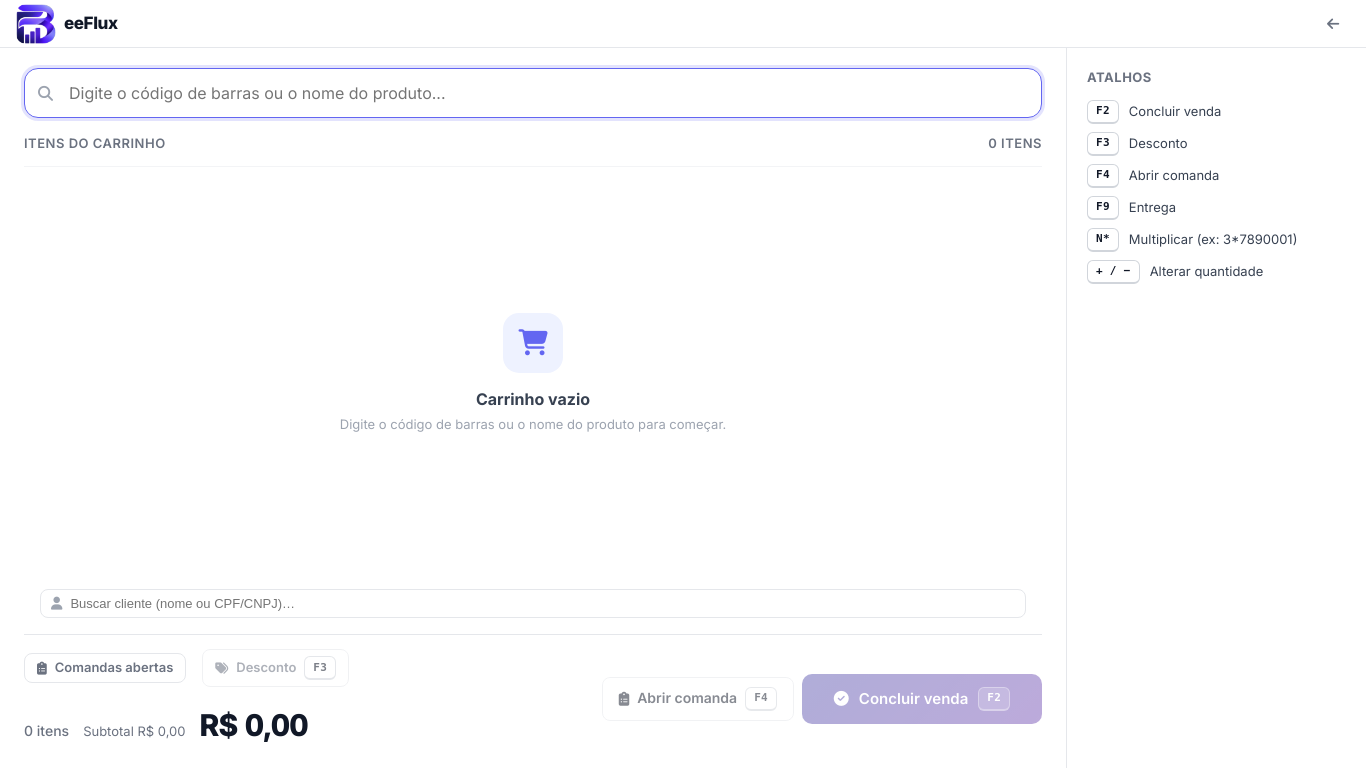
PdvView › F2 abre com Dinheiro pré-preenchido e selecionado para digitar por cima
This screenshot has width=1366, height=768.
Type "arildo" into the field with placeholder "Digite o código de barras ou o nome do produto..." at (533, 93), box [24,68,1042,118]
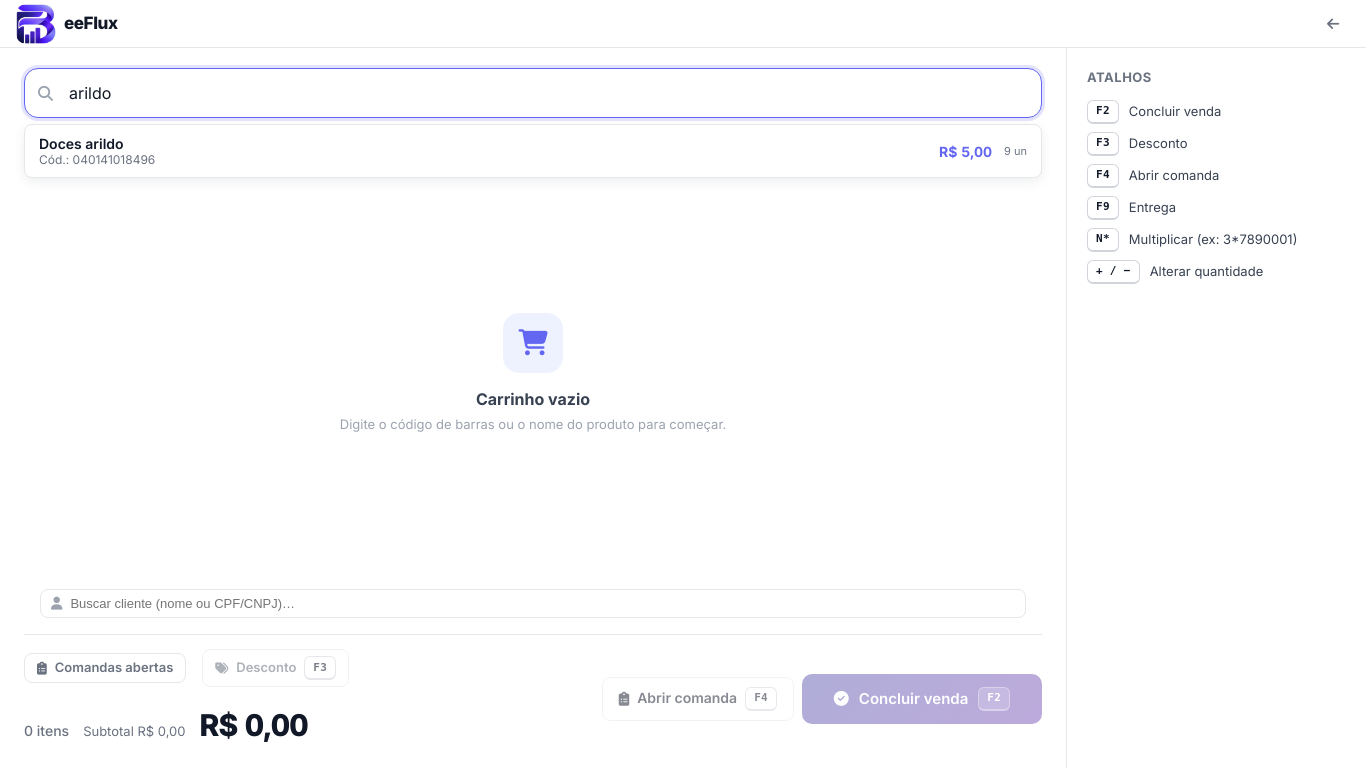
Press Enter in the 1st field, box [24,68,1042,118]
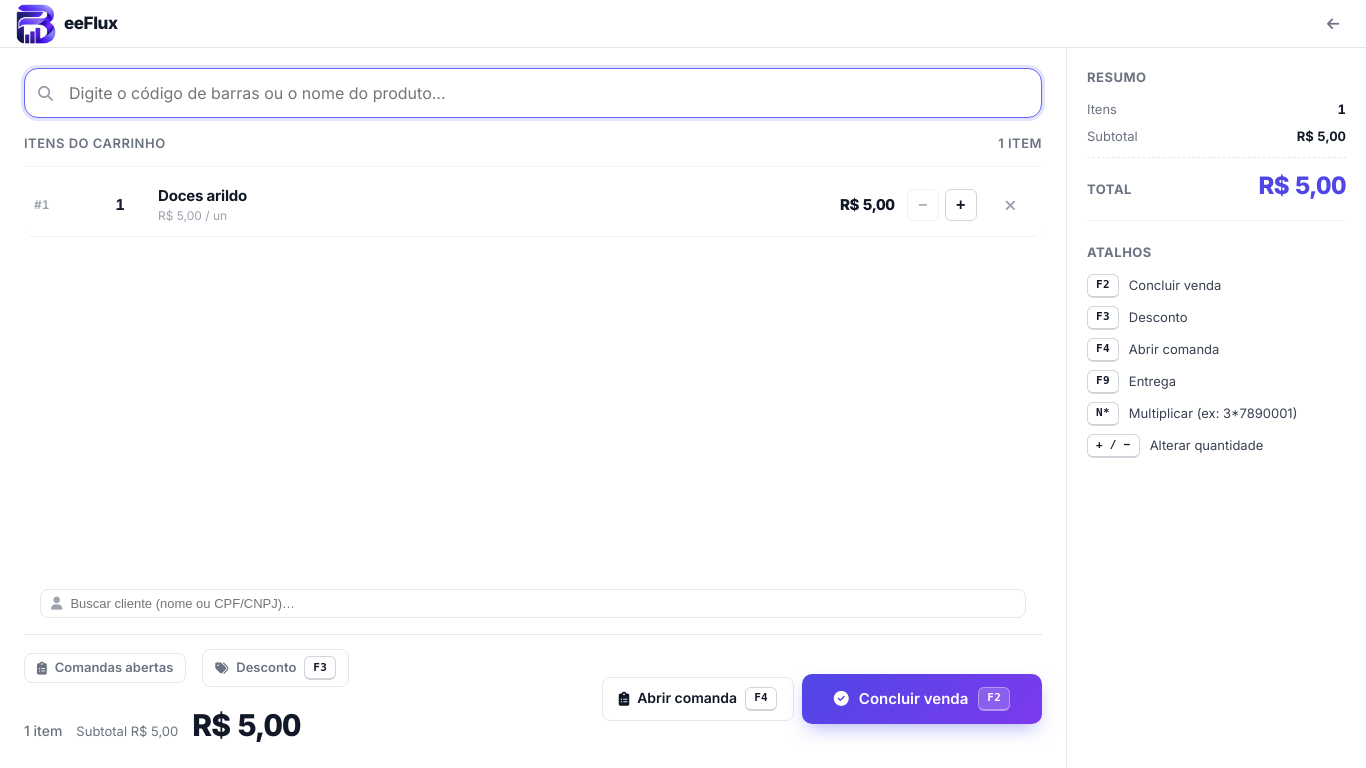
Click the button "Concluir venda F2" at (922, 698), box [802,674,1042,724]
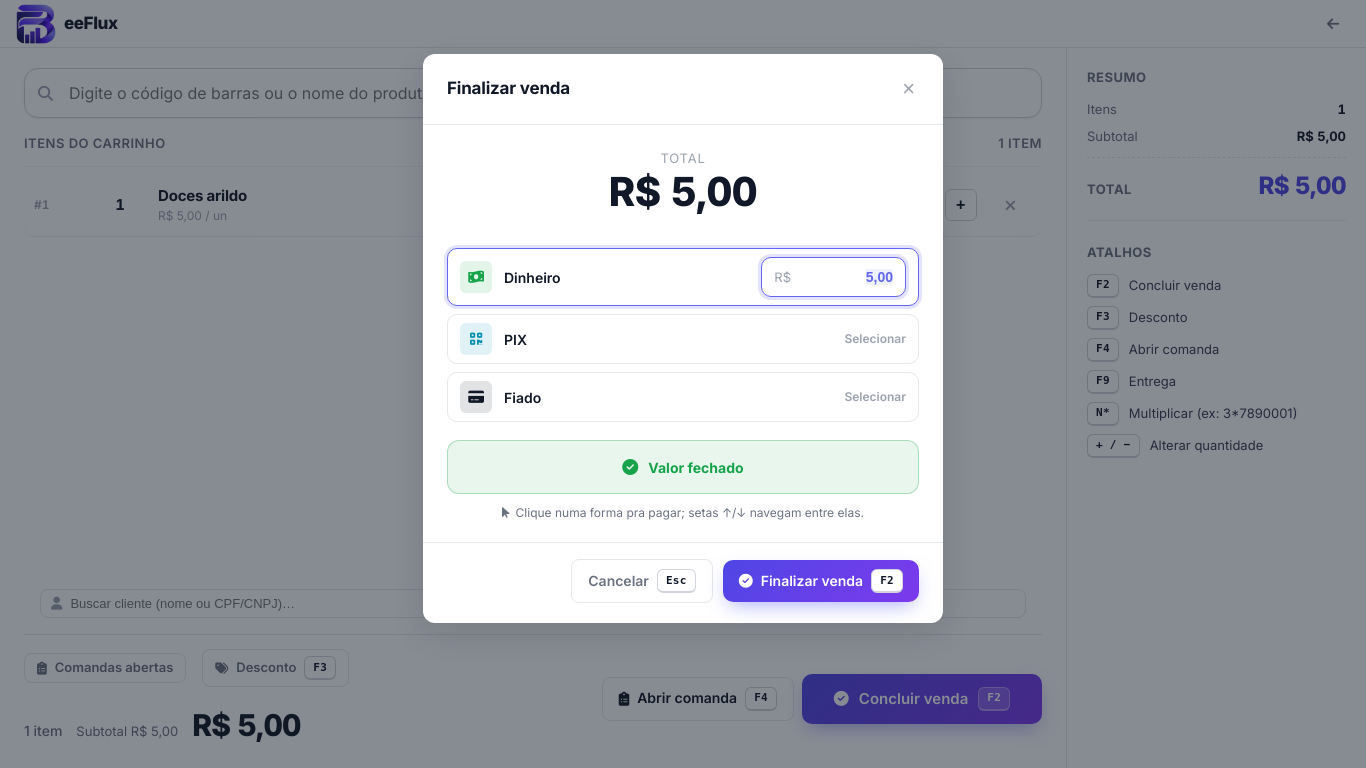
Result: the field named "Valor em Dinheiro" holds "5,00"
Replace the text in the field named "Valor em Dinheiro" with "1000" at (845, 277), box [797,269,893,285]
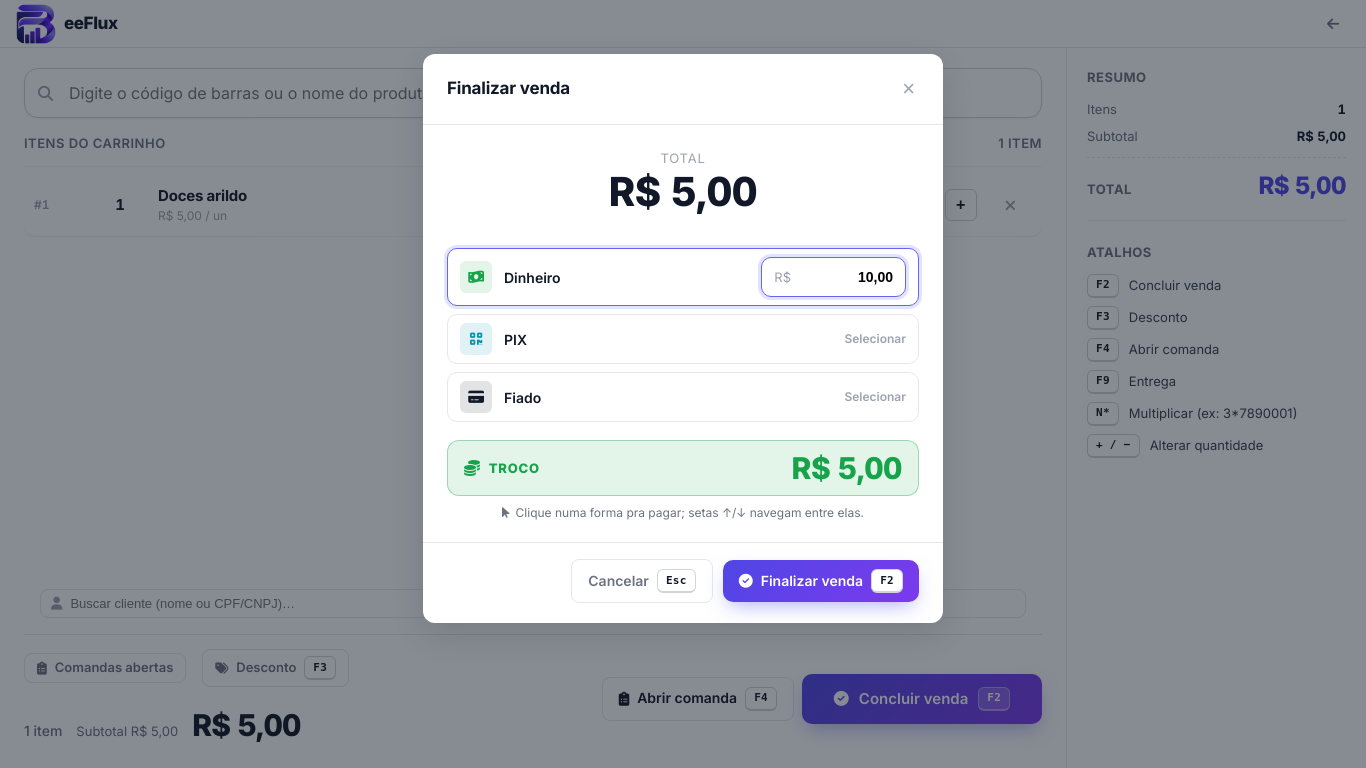
Result: the field named "Valor em Dinheiro" holds "10,00" at [797,269,893,285]
